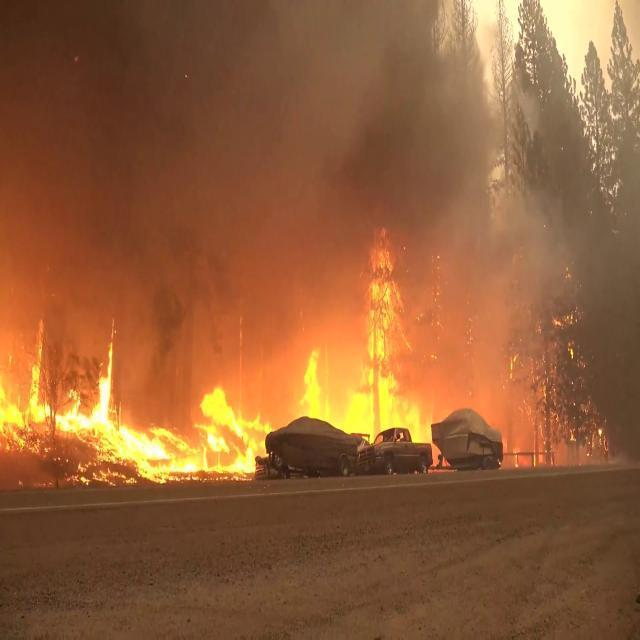Fire: (95, 359, 185, 476), (0, 324, 50, 443), (291, 352, 363, 431), (205, 389, 261, 477), (370, 248, 395, 425)
Smoke: (38, 0, 312, 307), (238, 0, 464, 246), (0, 10, 161, 270)
